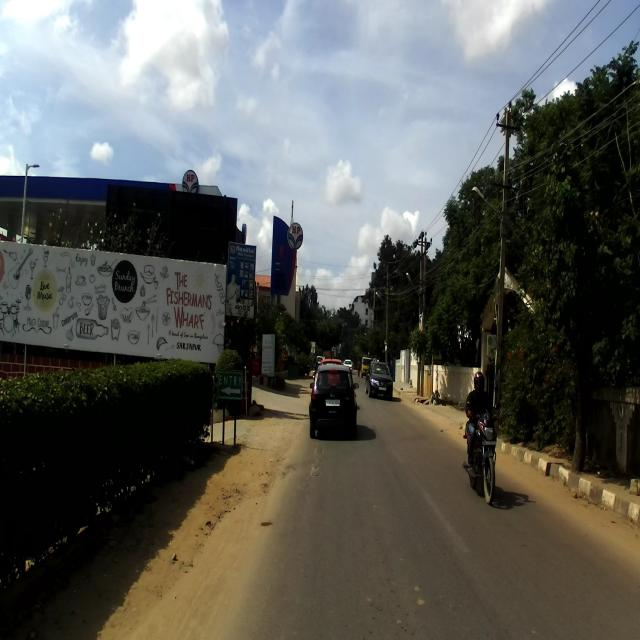car: (309, 364, 359, 437), (366, 361, 393, 400)
motorcycle: (467, 399, 502, 504)
